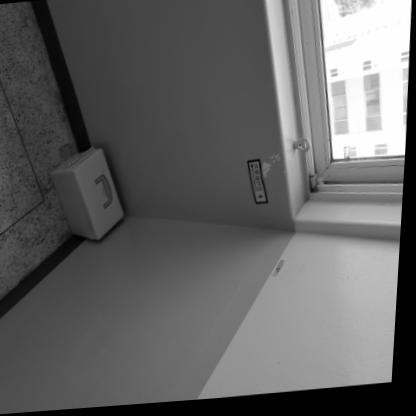DDL: (46, 147, 130, 245)
